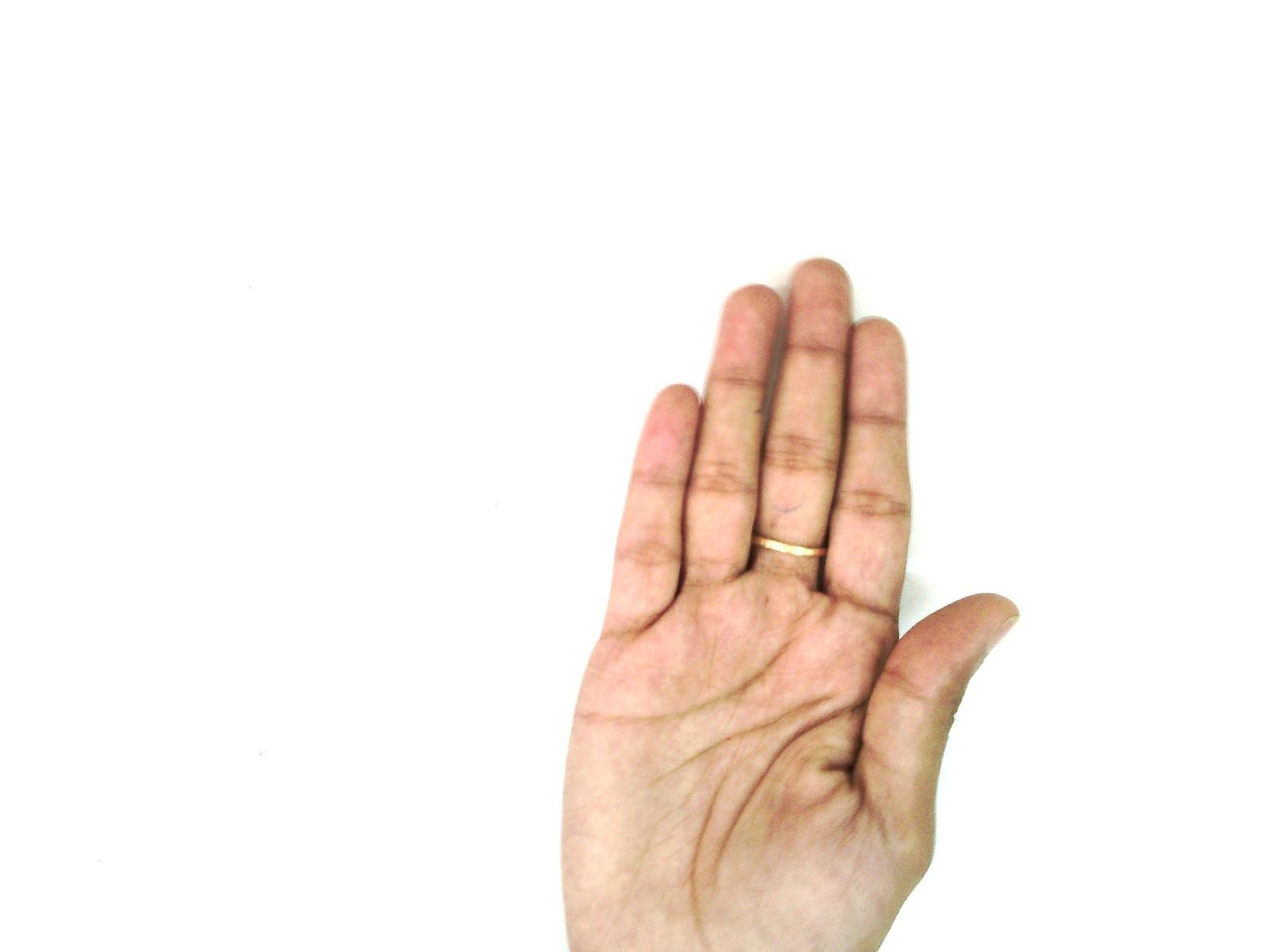open_palm: (557, 257, 1022, 951)
